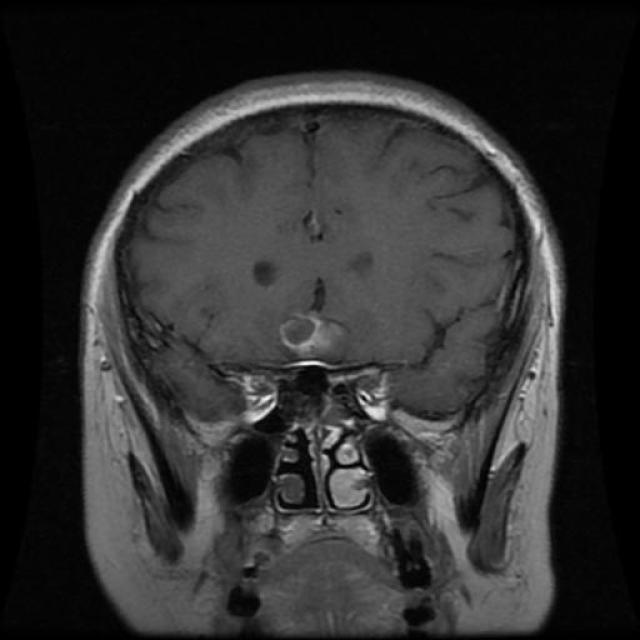pituitary: (273, 304, 398, 422)
